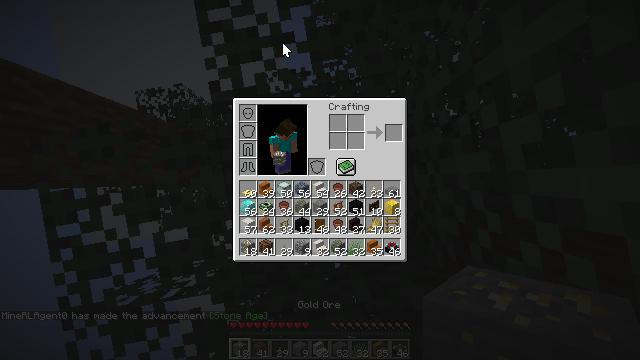cursor: (282, 42, 292, 58)
